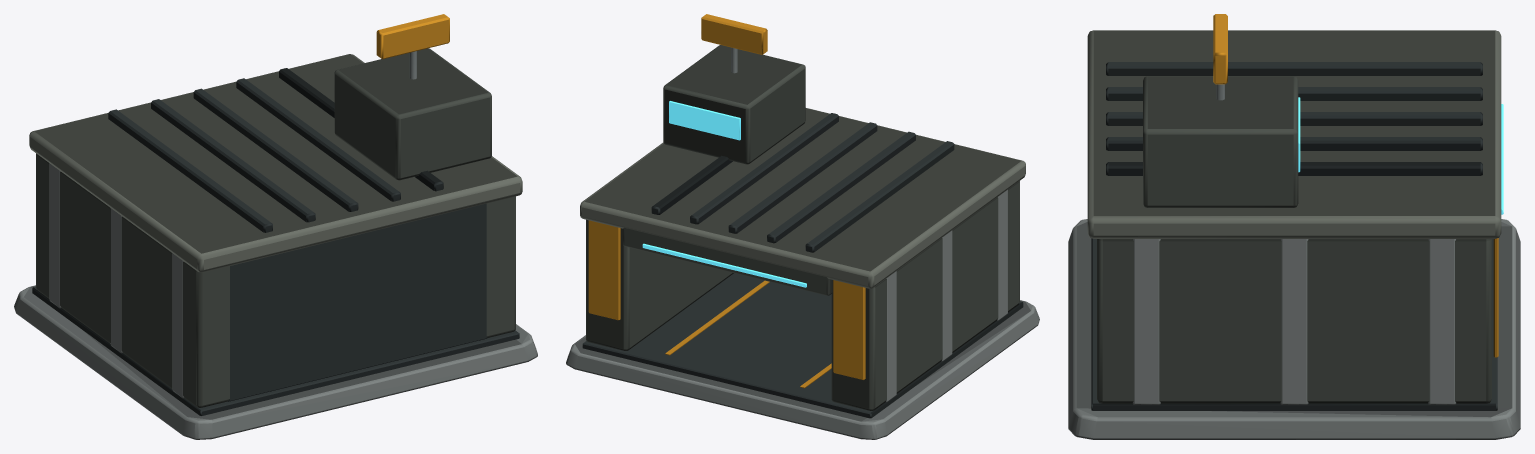
File: AircraftFactory.glb
3 views of the same model, side by side, from view 1: azimuth 30°, elevation 25°; view 2: azimuth 150°, elevation 25°; view 3: azimuth 270°, elevation 25° (orthographic). The views are drawn at different scales.
Parts seen in each view (by area): view 1: export_AircraftFactory_Foundation; view 2: export_AircraftFactory_Foundation; view 3: export_AircraftFactory_Foundation.
Part boxes in pixels (left/top/right/bottom): export_AircraftFactory_Foundation: left=14, top=14, right=537, bottom=439; export_AircraftFactory_Foundation: left=566, top=14, right=1039, bottom=439; export_AircraftFactory_Foundation: left=1068, top=14, right=1520, bottom=439.
Bounding box in the file's own units: 6.63 × 5.47 × 6.13.
